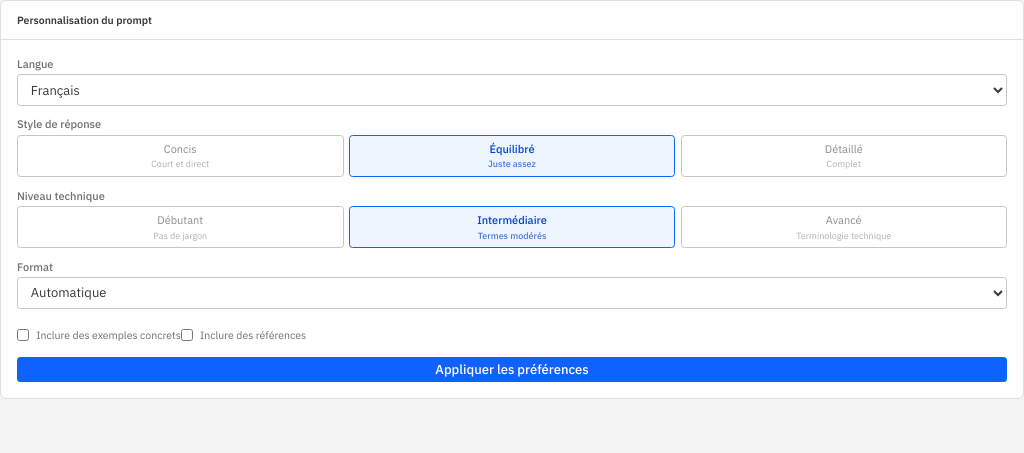
Scenario: PromptCustomization › should show error on save failure
The width and height of the screenshot is (1024, 453).
Click the button "Appliquer les préférences" at (512, 370), box [17,357,1007,382]
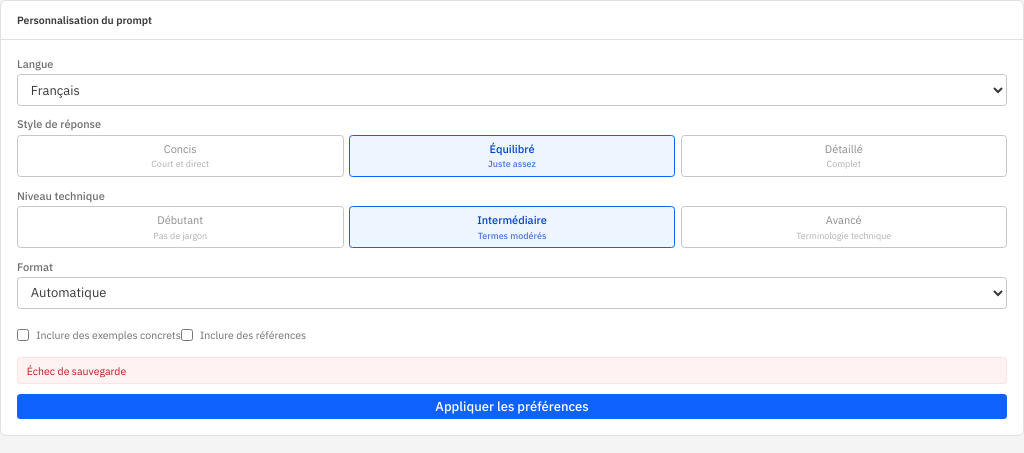
Expected: the text "Échec de sauvegarde" is shown, [17,357,1007,384]
